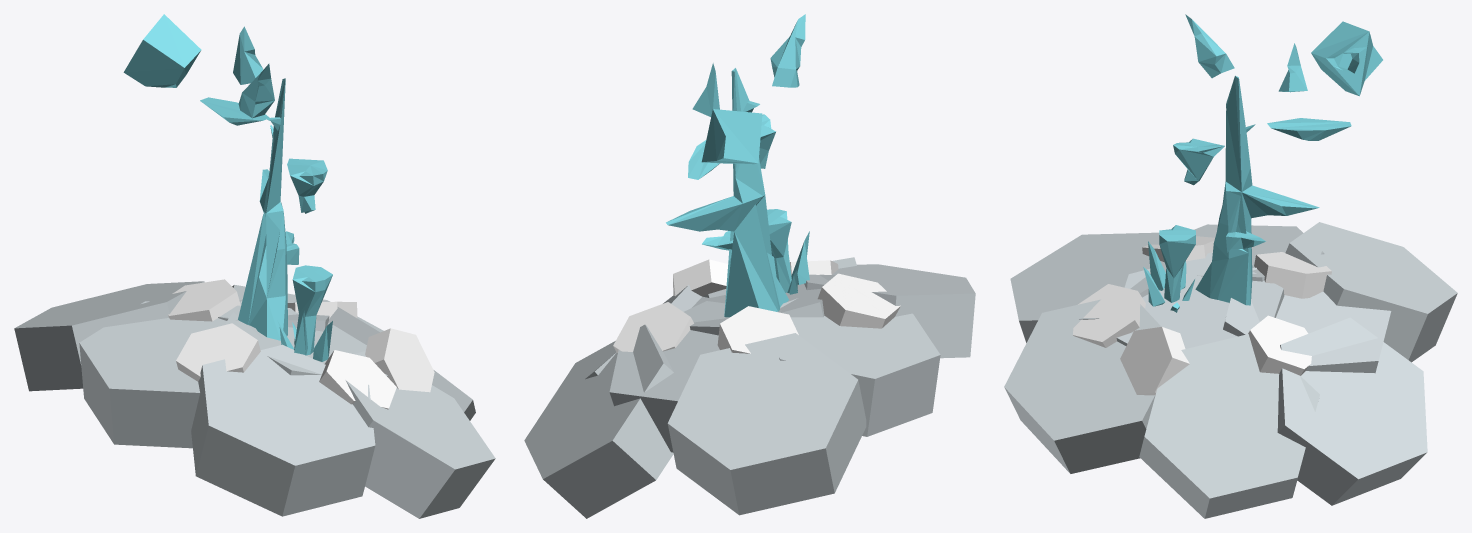
3 views of the same model, side by side, from view 1: azimuth 30°, elevation 25°; view 2: azimuth 150°, elevation 25°; view 3: azimuth 270°, elevation 25° (orthographic). The views are drawn at different scales.
Parts seen in each view (by area): view 1: group_1854816234, group_913262242, group_1950510073, group_1070850077, mesh_38688633, mesh_521543546, group_626547228, group_1952564545, group_1374059930, group_339374920, mesh_822967748, group_1609262683 (+6 smaller); view 2: group_1070850077, group_439783821, group_913262242, mesh_38688633, group_1854816234, group_768119348, group_626547228, mesh_521543546, group_339374920, group_1951393712, group_1609262683, mesh_659614514 (+6 smaller); view 3: group_608320670, group_439783821, group_1950510073, group_1070850077, mesh_38688633, group_1854816234, group_768119348, group_1609262683, group_1952564545, mesh_521543546, group_1374059930, group_1951393712 (+8 smaller).
Part boxes in pixels (x1,y1,x2,y2): group_1854816234: (191, 344, 375, 516); group_913262242: (79, 301, 262, 448); group_1950510073: (345, 351, 495, 518); group_1070850077: (14, 281, 204, 391); mesh_38688633: (238, 78, 299, 340); mesh_521543546: (123, 14, 201, 87); group_626547228: (176, 323, 260, 381); group_1952564545: (365, 328, 434, 392); group_1374059930: (319, 350, 396, 409); group_339374920: (168, 279, 240, 321); mesh_822967748: (292, 265, 332, 355); group_1609262683: (224, 301, 387, 376); group_1070850077: (667, 333, 866, 515); group_439783821: (524, 324, 673, 518); group_913262242: (779, 298, 940, 436); mesh_38688633: (666, 68, 788, 317); group_1854816234: (804, 264, 975, 358); group_768119348: (609, 301, 781, 452); group_626547228: (817, 273, 900, 328); mesh_521543546: (701, 109, 762, 164); group_339374920: (717, 306, 798, 353); group_1951393712: (613, 302, 693, 352); group_1609262683: (690, 274, 835, 335); mesh_659614514: (770, 14, 805, 87); group_608320670: (1139, 334, 1319, 518); group_439783821: (1277, 317, 1427, 505); group_1950510073: (1004, 299, 1161, 473); group_1070850077: (1285, 222, 1457, 362); mesh_38688633: (1195, 75, 1319, 305); group_1854816234: (1010, 232, 1166, 342); group_768119348: (1223, 267, 1391, 373); group_1609262683: (1116, 252, 1284, 348); group_1952564545: (1120, 327, 1189, 395); mesh_521543546: (1311, 21, 1382, 96); group_1374059930: (1073, 284, 1145, 347); group_1951393712: (1248, 315, 1311, 375).
Size of the model in its own units: 303 by 357 by 347.
